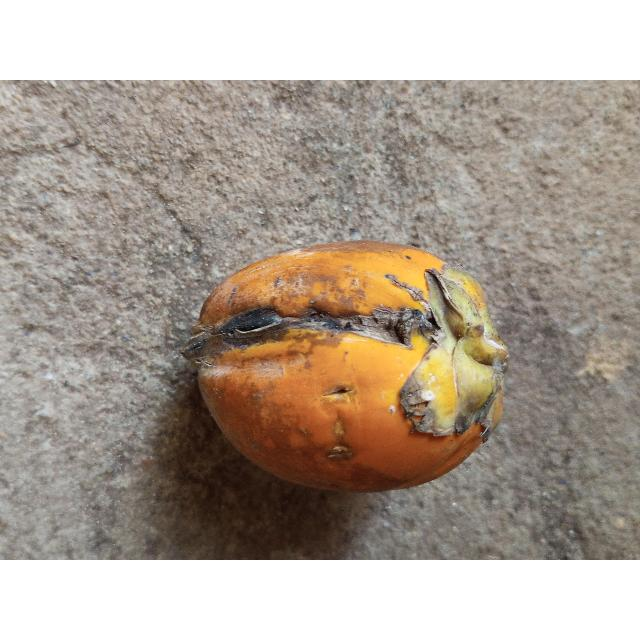damaged: (182, 241, 509, 495)
